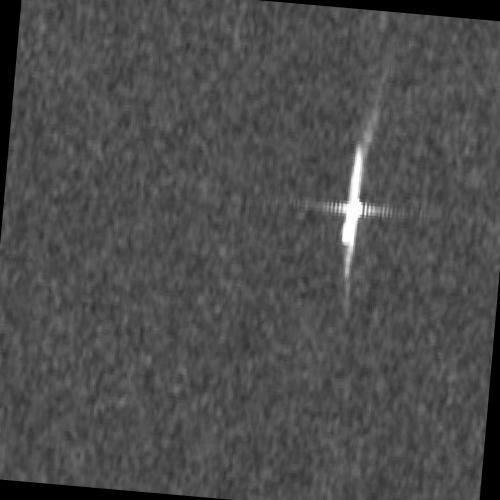ship: (341, 144, 363, 248)
